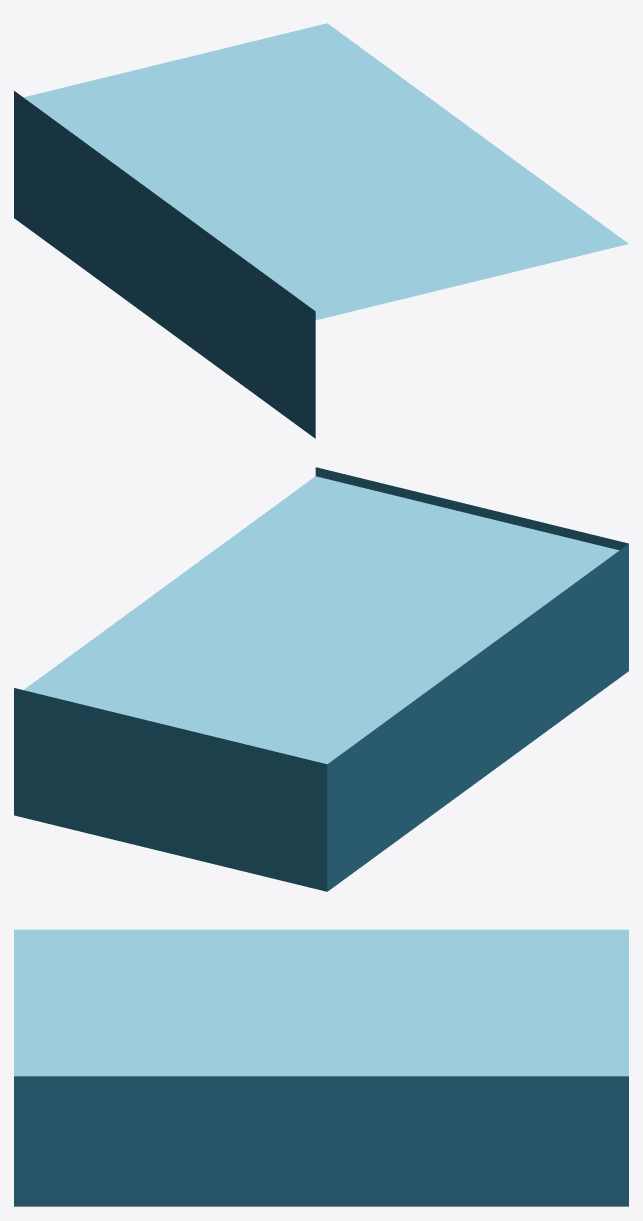
File: tank.glb
The picture shows the model from 3 angles, top to bottom: view 1: azimuth 30°, elevation 25°; view 2: azimuth 150°, elevation 25°; view 3: azimuth 270°, elevation 25°; orthographic projection.
Parts seen in each view (by area): view 1: tank; view 2: tank; view 3: tank.
Part boxes in pixels (bbox=[...]): tank: bbox=[14, 23, 628, 438]; tank: bbox=[14, 467, 628, 891]; tank: bbox=[14, 929, 628, 1206].
Size of the model in its own units: 18 by 7 by 30.
